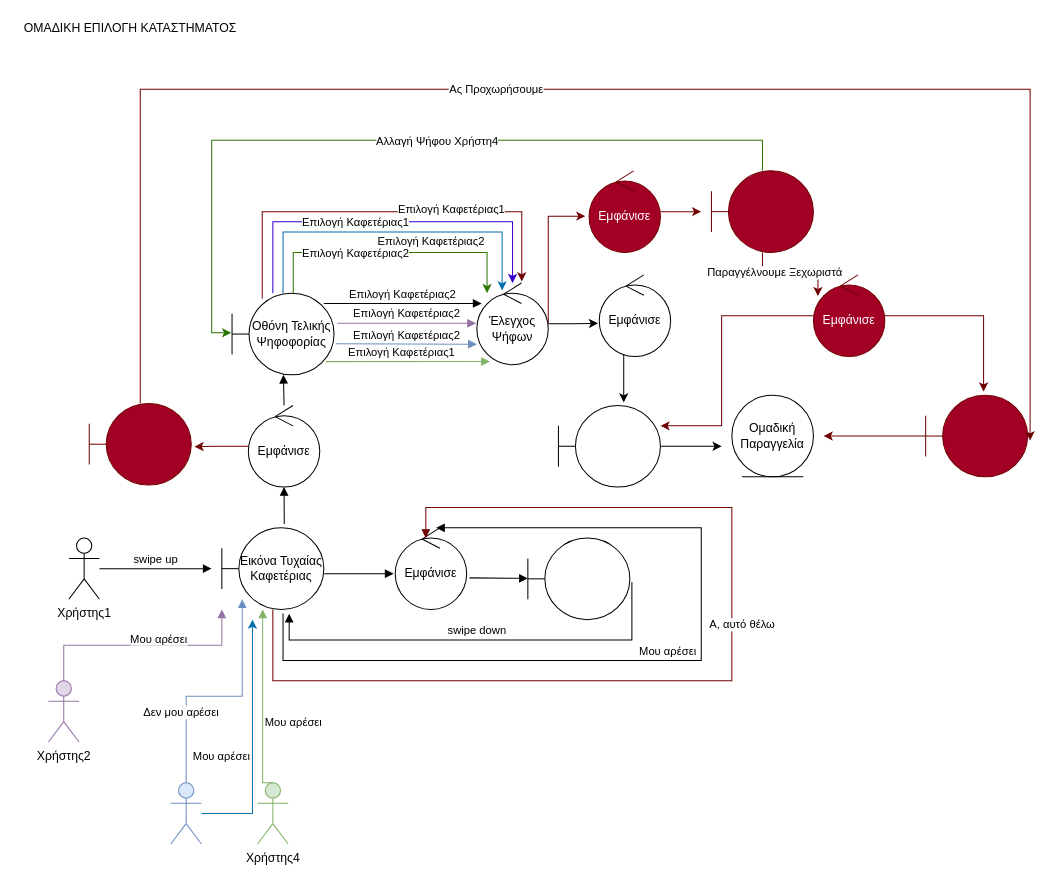
Some shapes in this 1056 by 882 pixel diagram are drawn without their labels. Each missing label, with the centre of its shape:
"Μενού Καφετέριας1" goes at (x=976, y=435).
"Μενού Καφετέριας2" goes at (x=608, y=445).
"Οθόνη Ισοψηφίας" goes at (x=761, y=211).
"Οθόνη Ταιριάσματος" goes at (x=139, y=443).
"Προφίλ Τυχαίας Καφετέριας" goes at (x=578, y=578).
"Χρήστης3" goes at (x=185, y=813).
